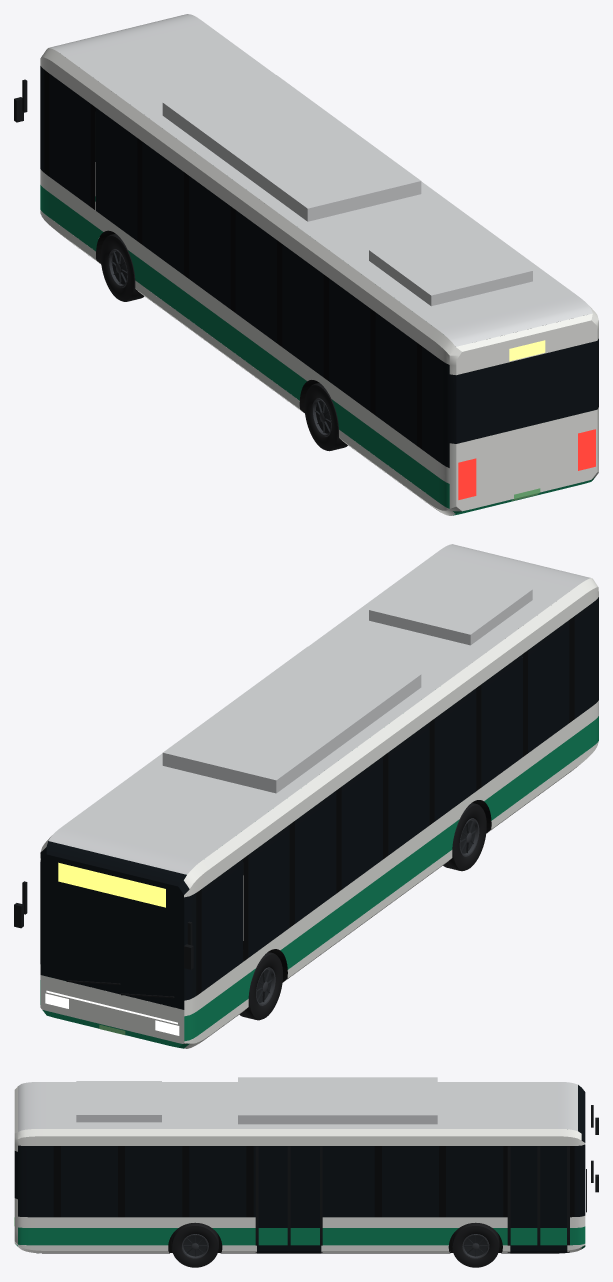
File: gz_bus.glb
The picture shows the model from 3 angles, top to bottom: view 1: azimuth 30°, elevation 25°; view 2: azimuth 150°, elevation 25°; view 3: azimuth 270°, elevation 25°; orthographic projection. The views are drawn at different scales.
Parts seen in each view (by area): view 1: bus | body, bus front left | wheel, bus rear left | wheel; view 2: bus | body, bus front left | wheel, bus rear left | wheel; view 3: bus | body, bus front right | wheel, bus rear right | wheel.
Boxes of the visible parts, <box> form: bus | body: <box>14,14,598,515</box>; bus front left | wheel: <box>100,233,144,301</box>; bus rear left | wheel: <box>304,383,347,451</box>; bus | body: <box>14,544,598,1048</box>; bus front left | wheel: <box>239,952,282,1020</box>; bus rear left | wheel: <box>443,803,486,871</box>; bus | body: <box>14,1077,598,1253</box>; bus front right | wheel: <box>452,1222,499,1267</box>; bus rear right | wheel: <box>171,1222,218,1267</box>.
Bounding box in the file's own units: 2.96 × 3.41 × 12.3.
